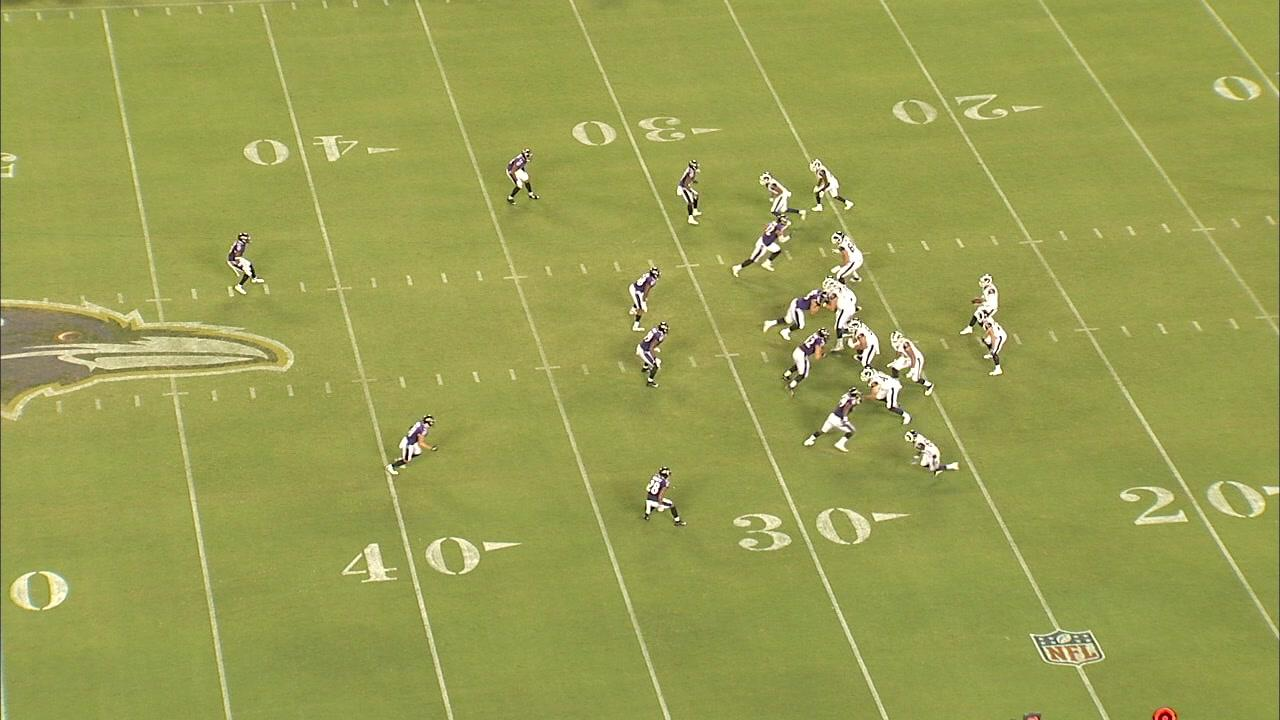five_hash: (349, 375, 379, 384), (1253, 312, 1280, 322), (1189, 225, 1218, 234), (160, 390, 192, 398), (144, 296, 173, 304), (501, 273, 530, 281), (1072, 326, 1101, 334), (325, 285, 355, 292), (532, 365, 562, 372), (674, 263, 702, 270), (1017, 239, 1045, 246), (711, 352, 742, 358)
hash: (935, 335, 954, 354), (1123, 222, 1142, 240), (1225, 315, 1243, 333), (1044, 328, 1062, 346), (1117, 323, 1136, 340), (952, 234, 969, 252), (1154, 321, 1171, 338), (756, 348, 772, 366), (1228, 216, 1245, 232), (1189, 319, 1206, 335), (613, 358, 629, 375), (467, 368, 483, 385), (1090, 226, 1108, 241), (1157, 221, 1175, 236), (130, 392, 145, 410), (884, 240, 900, 256), (1054, 228, 1071, 243), (1009, 332, 1024, 349), (578, 361, 593, 378), (395, 374, 410, 391), (206, 389, 223, 404), (433, 371, 447, 389), (322, 378, 335, 397), (576, 260, 591, 276), (714, 253, 730, 268), (1263, 214, 1279, 229), (686, 353, 700, 370), (506, 366, 520, 383), (284, 382, 297, 400), (259, 282, 274, 297), (610, 259, 625, 274), (918, 239, 933, 254), (246, 385, 260, 401), (114, 291, 128, 306), (542, 264, 556, 279), (815, 245, 830, 259), (987, 234, 1002, 248), (188, 285, 201, 301), (92, 396, 105, 412), (296, 281, 310, 295), (473, 269, 487, 283), (53, 398, 65, 414), (224, 285, 238, 298), (438, 271, 451, 285), (368, 275, 380, 289), (783, 248, 795, 262), (647, 259, 659, 270), (404, 274, 414, 287)
number: (337, 532, 488, 589), (1113, 476, 1268, 530), (728, 504, 875, 556), (241, 130, 362, 170), (887, 89, 1011, 127), (572, 111, 688, 151)
